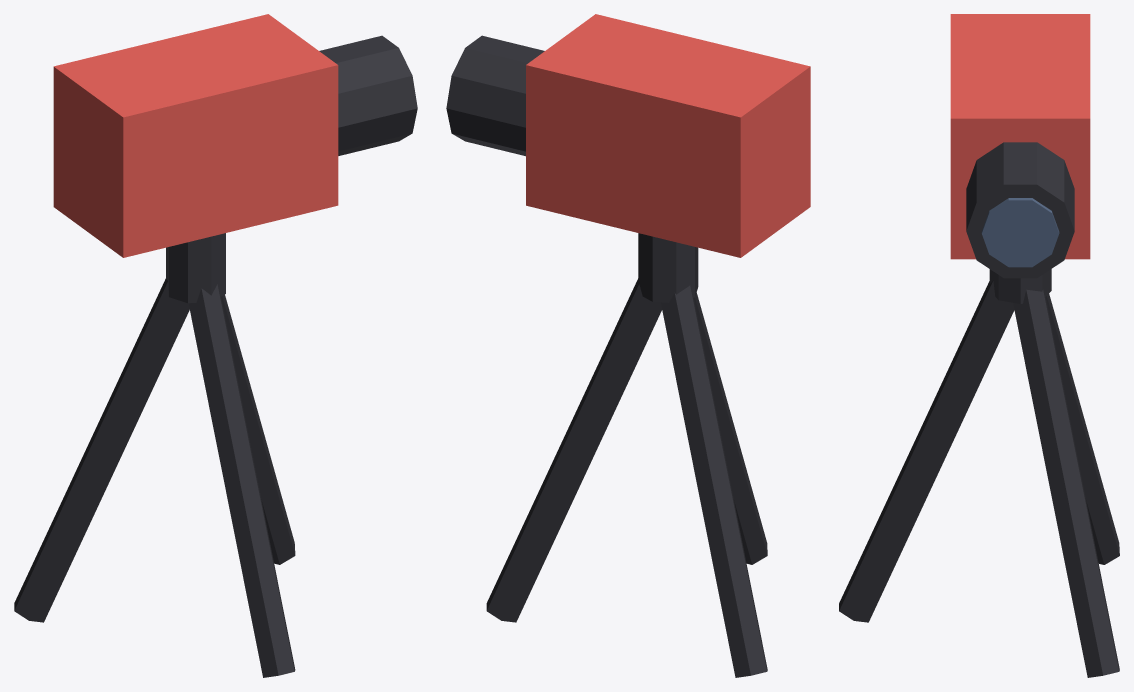
File: SM_Cam_Fixed.fbx
3 renders of one model, left to right at view 1: azimuth 30°, elevation 25°; view 2: azimuth 150°, elevation 25°; view 3: azimuth 270°, elevation 25°, orthographic.
Parts seen in each view (by area): view 1: SM_Cam_Fixed; view 2: SM_Cam_Fixed; view 3: SM_Cam_Fixed.
Boxes of the visible parts, x1,y1,x2,y2 form: SM_Cam_Fixed: [14, 14, 417, 677]; SM_Cam_Fixed: [446, 14, 810, 677]; SM_Cam_Fixed: [839, 14, 1119, 677].
Bounding box in the file's own units: 0.2529 × 0.3934 × 0.1813.
